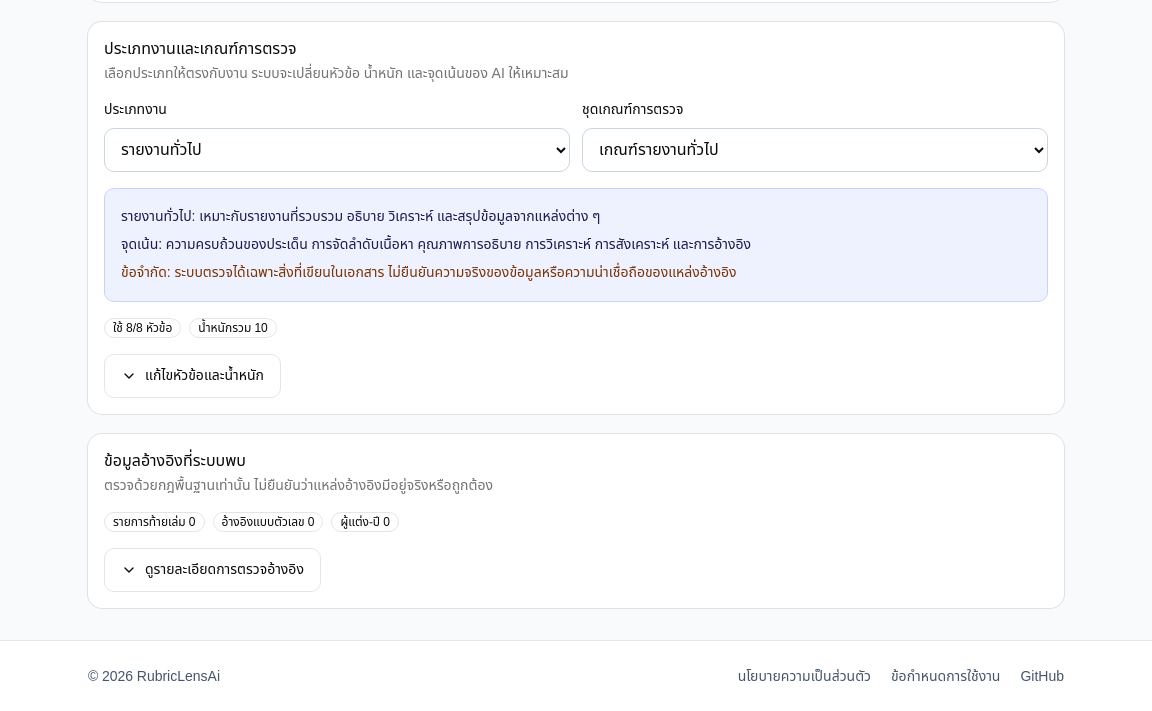
Test: App › lets the user add and disable rubric sections
The image size is (1152, 711).
(page scrolled)
Expected: the text "ใช้ 8/8 หัวข้อ" is shown, [104,318,181,338]
Click the button "แก้ไขหัวข้อและน้ำหนัก" at (192, 376), box [104,354,281,398]
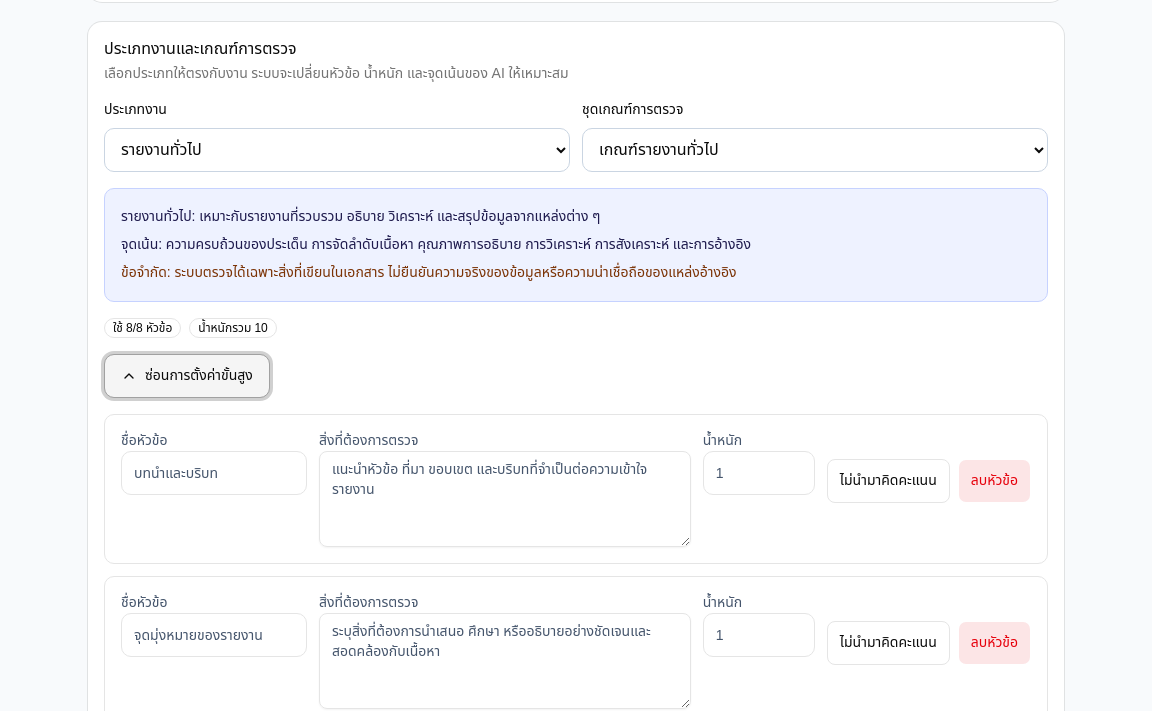
Click the 1st button "ไม่นำมาคิดคะแนน" at (888, 481), box [827,459,950,503]
(page scrolled)
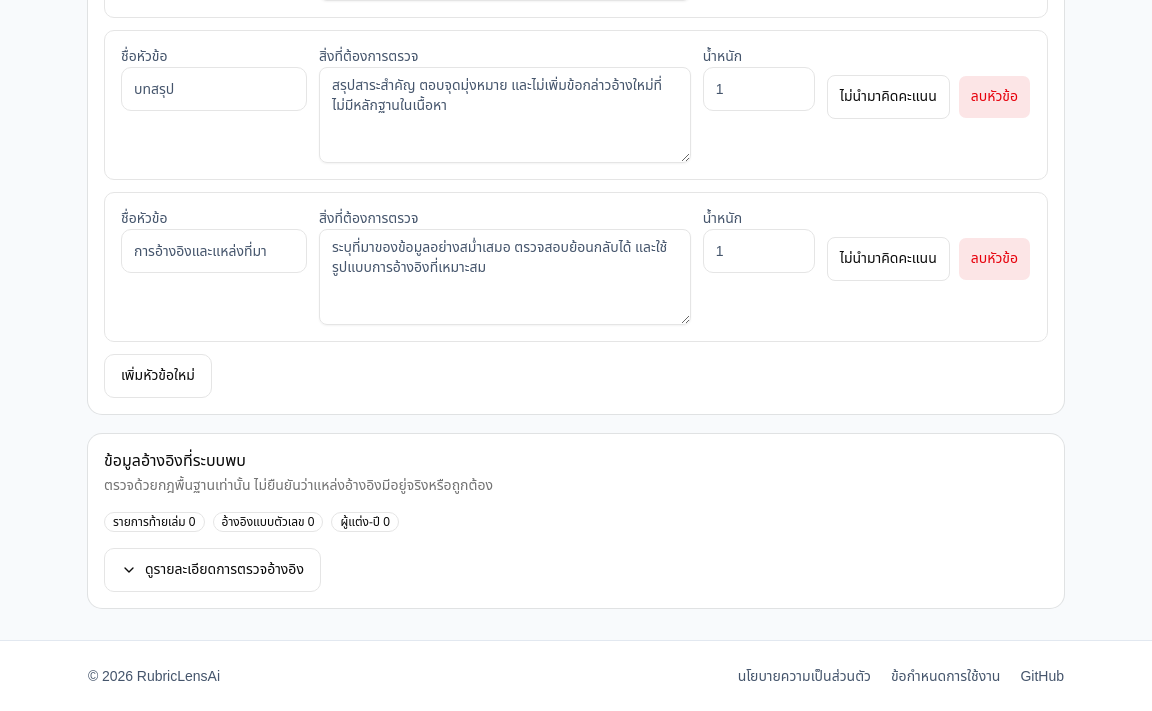
Click the button "เพิ่มหัวข้อใหม่" at (158, 376), box [104,354,212,398]
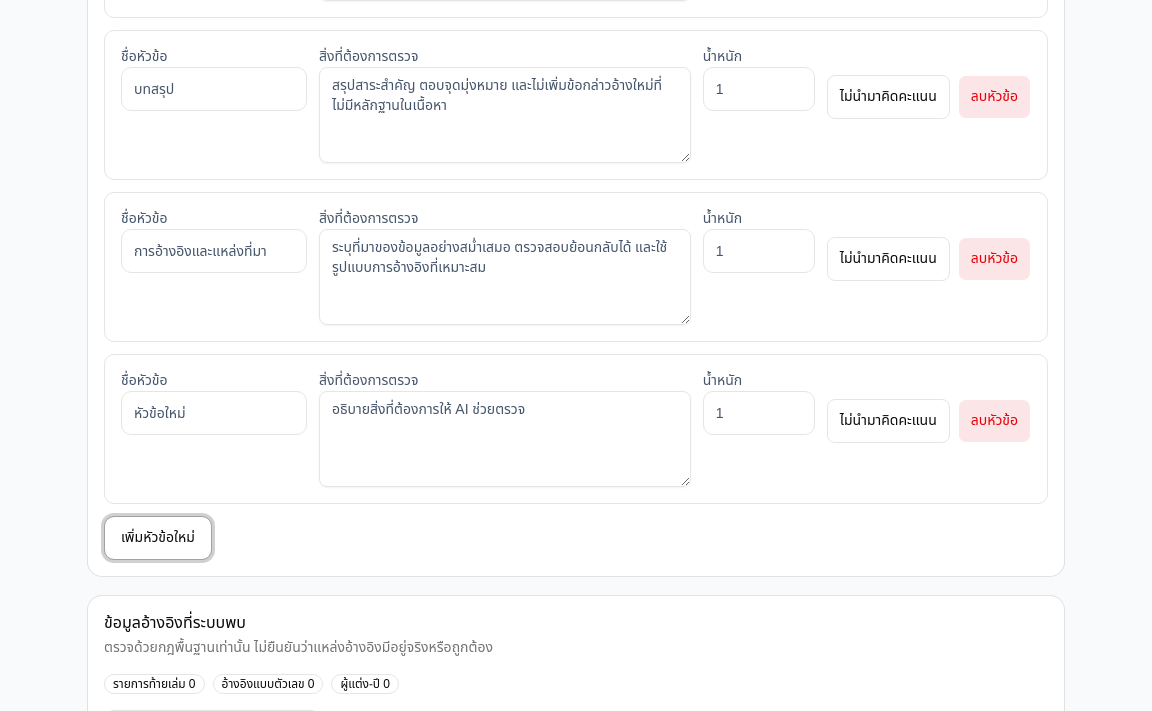
Expected: the field named "ชื่อหัวข้อ หัวข้อใหม่" is shown, [121,391,307,435]
